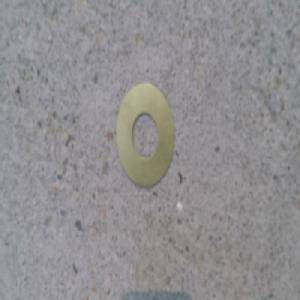Washer: (113, 78, 174, 189)
